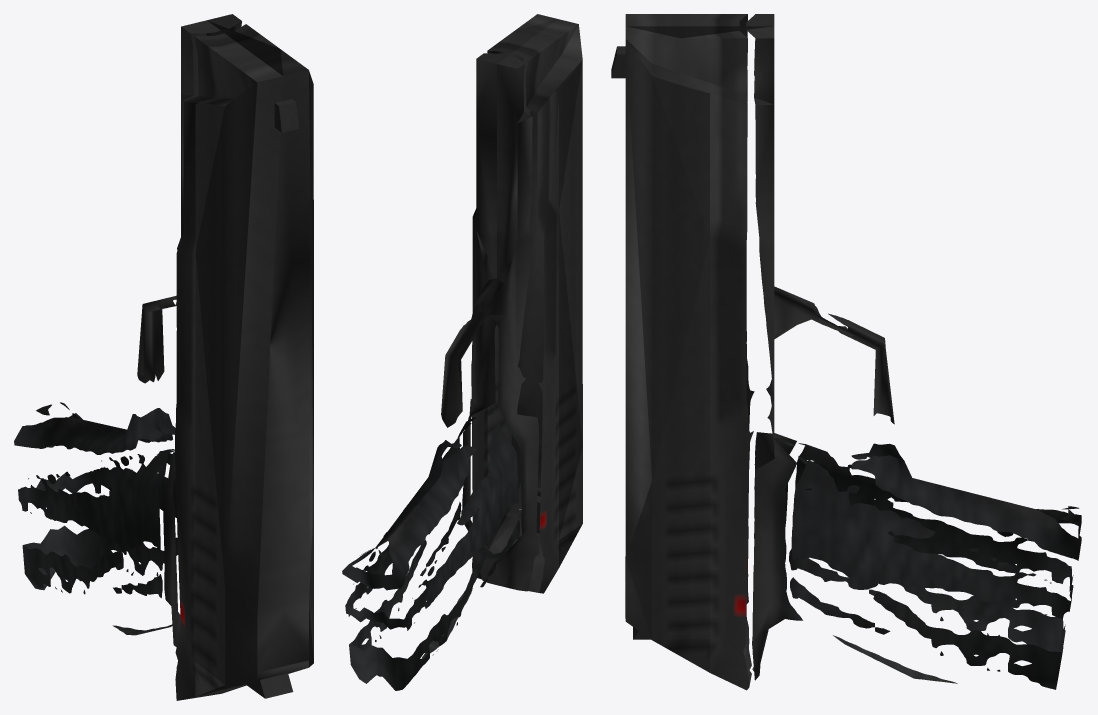
Rendered from HKM23.fbx.
3 renders of one model, left to right at view 1: azimuth 30°, elevation 25°; view 2: azimuth 150°, elevation 25°; view 3: azimuth 270°, elevation 25°, orthographic. The views are drawn at different scales.
Visible parts, largest first — view 1: node_7de4afb5_64dc_429b_9924_69f07a10f78e_mesh0; view 2: node_7de4afb5_64dc_429b_9924_69f07a10f78e_mesh0; view 3: node_7de4afb5_64dc_429b_9924_69f07a10f78e_mesh0.
Part boxes in pixels (left/top/right/bottom): node_7de4afb5_64dc_429b_9924_69f07a10f78e_mesh0: left=14, top=14, right=313, bottom=700; node_7de4afb5_64dc_429b_9924_69f07a10f78e_mesh0: left=342, top=14, right=582, bottom=690; node_7de4afb5_64dc_429b_9924_69f07a10f78e_mesh0: left=611, top=14, right=1081, bottom=690.
Size of the model in its own units: 0.0199 by 0.1474 by 0.094.
